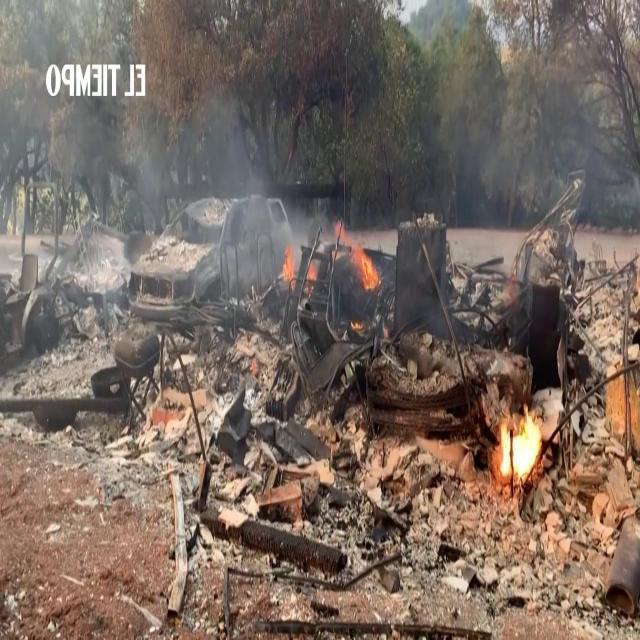Fire: (501, 421, 541, 478), (350, 237, 382, 290)
